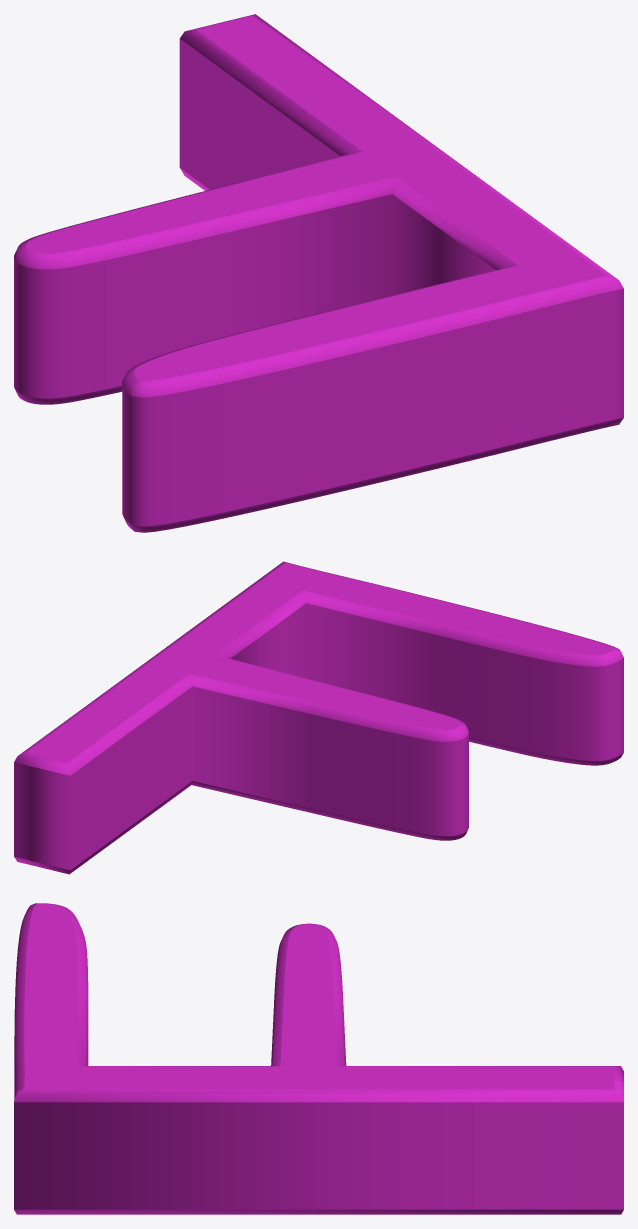
File: Blocky_LetterF.fbx
3 views of the same model, one above another, from view 1: azimuth 30°, elevation 25°; view 2: azimuth 150°, elevation 25°; view 3: azimuth 270°, elevation 25° (orthographic). The views are drawn at different scales.
Visible parts, largest first — view 1: BlockyLetter_F; view 2: BlockyLetter_F; view 3: BlockyLetter_F.
Boxes of the visible parts, x1,y1,x2,y2 form: BlockyLetter_F: (14, 14, 623, 532); BlockyLetter_F: (14, 561, 623, 874); BlockyLetter_F: (14, 903, 623, 1214).
Size of the model in its own units: 0.4658 by 0.14 by 0.6184.
